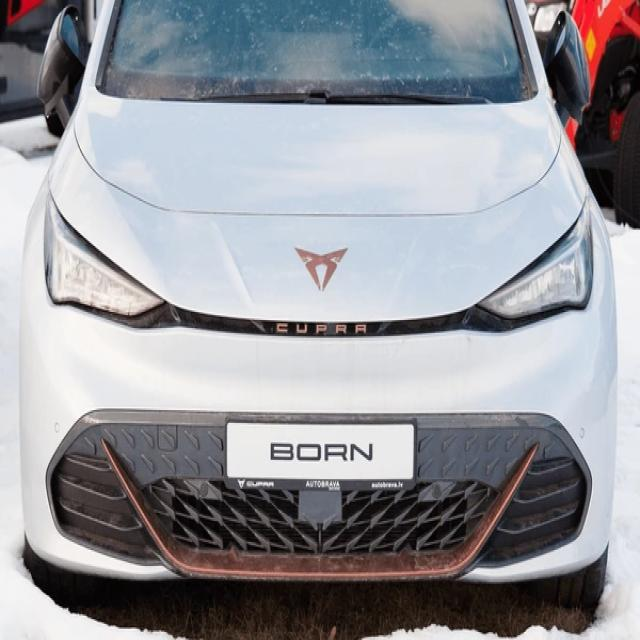cupra: (297, 240, 348, 294)
